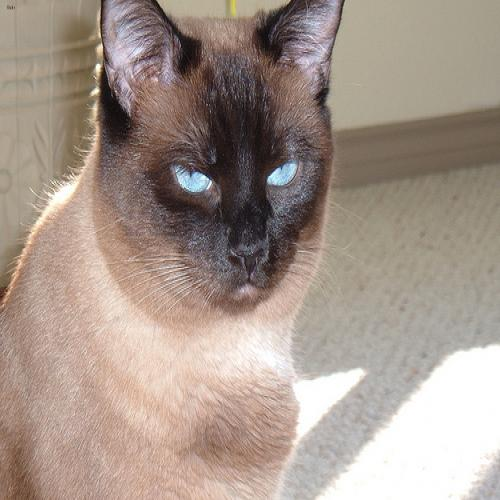siamese: (82, 1, 366, 318)
